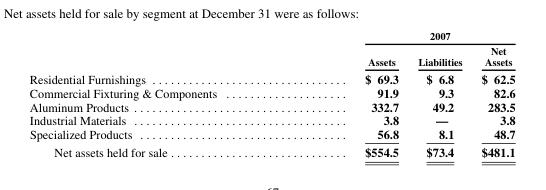table: (28, 29, 514, 159)
table column: (28, 29, 290, 159), (290, 29, 407, 159), (407, 29, 471, 159), (471, 29, 514, 159)
table column header: (28, 29, 514, 69)
table row: (28, 42, 514, 69), (28, 142, 514, 159), (28, 69, 514, 85), (28, 126, 514, 142), (28, 85, 514, 99), (28, 112, 514, 126), (28, 29, 514, 42), (28, 99, 514, 112)
table spanning cell: (290, 29, 514, 42)
